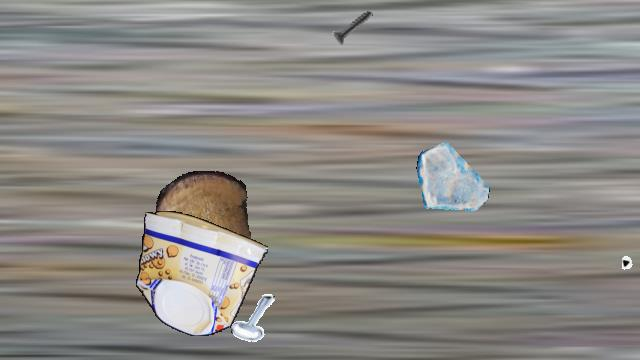glass: (416, 139, 490, 213)
metal: (327, 1, 379, 53), (230, 293, 282, 345), (622, 238, 640, 300)
plastic: (136, 211, 268, 335)
wood: (156, 171, 250, 275)
